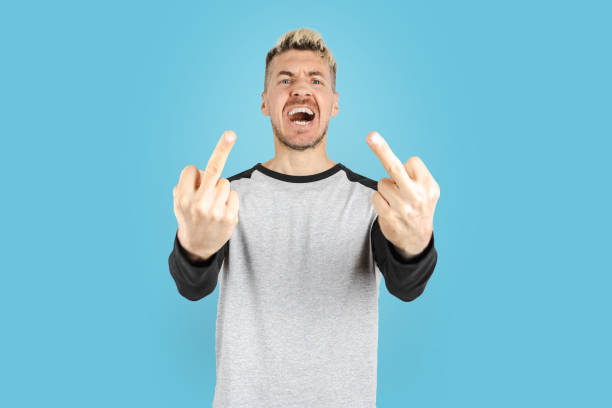insulting_gesture: (363, 129, 439, 244), (173, 132, 241, 251)
